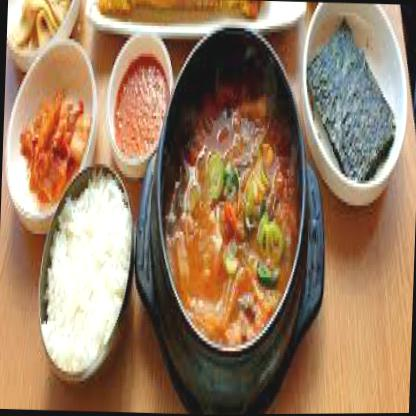Kimchi: (160, 43, 305, 356)
Kimchi stew: (14, 58, 91, 194)
rice ball: (38, 180, 130, 370)
seaweed soup: (302, 2, 406, 195)
